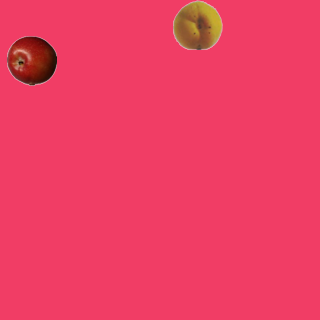Apple Braeburn: (6, 35, 56, 85)
Peach 2: (172, 0, 222, 49)
